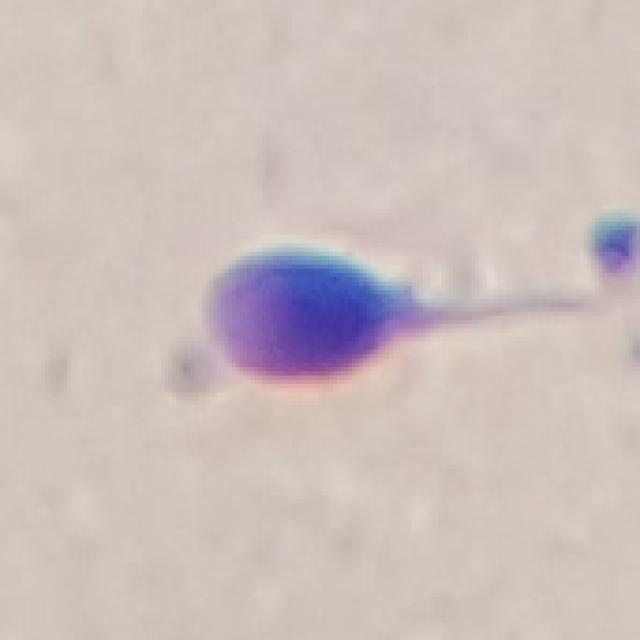normal sperm: (207, 245, 498, 383)
